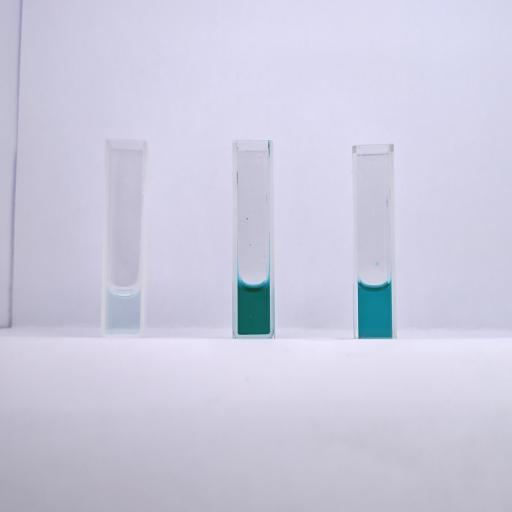cuvette: (100, 135, 150, 339), (350, 142, 400, 341), (232, 138, 278, 340)
liquid: (238, 280, 270, 335), (359, 281, 391, 335), (106, 285, 140, 334)
